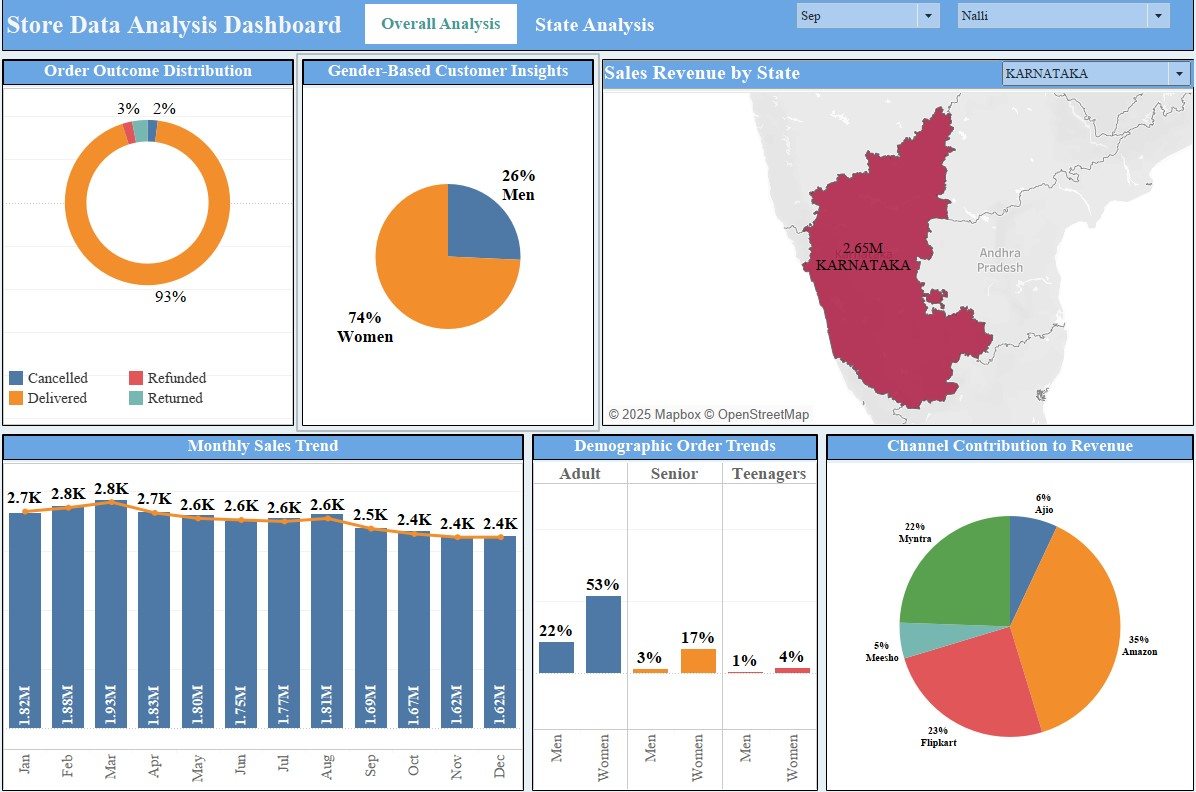

The dashboard page shown, as its layout file describes it:
{"tool":"tableau","page":{"name":"Dashboard 1","canvas":[1200,800],"ordinal":0},"visuals":[{"type":"text","box":[0,0,1200,60]},{"type":"filter","title":"order status","param":"[federated.02rkp1y1lznhpd12w5dop174ibxy].[none:Month:nk]","box":[796,5,149,48]},{"type":"filter","title":"order status","param":"[federated.02rkp1y1lznhpd12w5dop174ibxy].[none:Channel:nk]","box":[957,5,218,49]},{"type":"dashboard-object","box":[367,9,152,40]},{"type":"dashboard-object","box":[521,10,153,39]},{"type":"worksheet","title":"order status","mark":"Pie","rows":["Calculation_604889763275763712","Calculation_604889763275763712"],"box":[0,60,300,374.5]},{"type":"worksheet","title":"men v/s women","mark":"Pie","box":[300,60,300,374.5]},{"type":"worksheet","title":"Rank by sales in map","mark":"Automatic","box":[600,60,600,374.5]},{"type":"filter","title":"Rank by sales in map","param":"[federated.02rkp1y1lznhpd12w5dop174ibxy].[none:ship-state:nk]","box":[1001,65.1,195,26.7]},{"type":"legend","title":"order status","param":"[federated.02rkp1y1lznhpd12w5dop174ibxy].[none:Status:nk]","box":[8,373.3,289,56.5]},{"type":"worksheet","title":"Monthly Sales","mark":"Bar","rows":["Amount","Order ID"],"cols":["Month"],"box":[0,434.5,530,365.5]},{"type":"worksheet","title":"Age&Gender vs Order","mark":"Automatic","rows":["Order ID"],"cols":["Age Group","Gender"],"box":[530,434.5,294,365.5]},{"type":"worksheet","title":"Channels vs Sales","mark":"Pie","box":[824,434.5,376,365.5]}]}

Visuals, with their boxes in screenshot pixels (x1, y1, x2, y2), scaled from the page's 1200x800 canvas onto the 1196x792 screenshot:
text: [0,0,1195,59]
"order status" filter: [793,5,942,52]
"order status" filter: [954,5,1171,53]
dashboard-object: [366,9,517,49]
dashboard-object: [519,10,672,49]
"order status" worksheet (Pie marks): [0,59,299,430]
"men v/s women" worksheet (Pie marks): [299,59,598,430]
"Rank by sales in map" worksheet: [598,59,1195,430]
"Rank by sales in map" filter: [998,64,1192,91]
"order status" legend: [8,370,296,426]
"Monthly Sales" worksheet (Bar marks): [0,430,528,791]
"Age&Gender vs Order" worksheet: [528,430,821,791]
"Channels vs Sales" worksheet (Pie marks): [821,430,1195,791]
